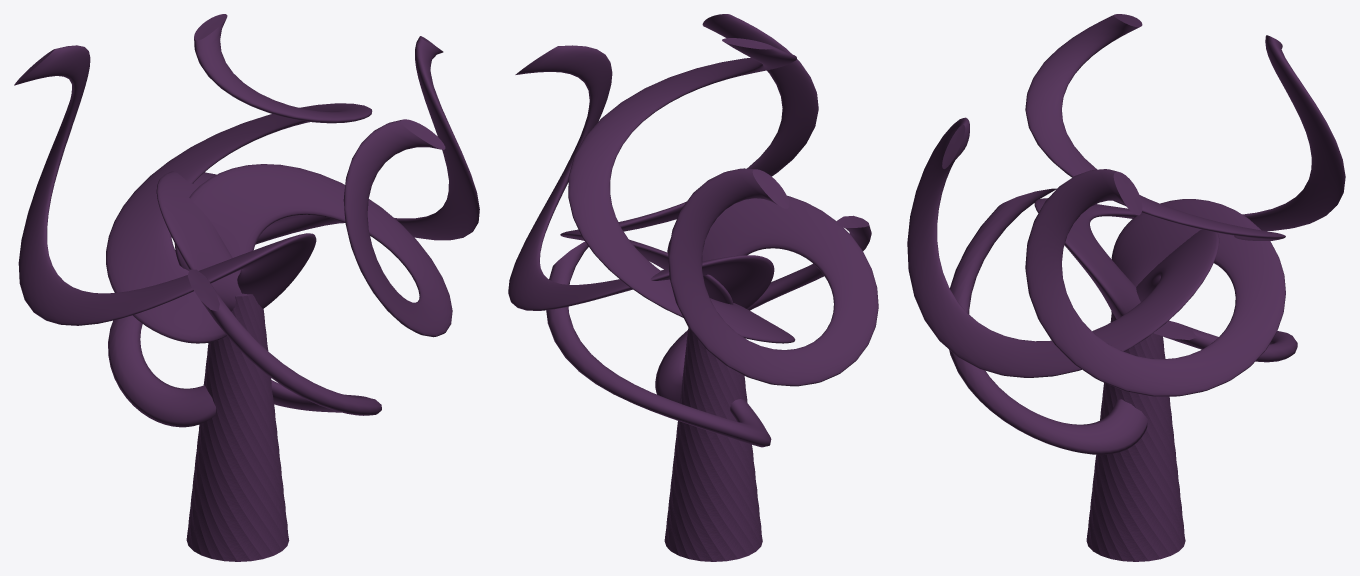
Rendered from FearLv3.glb.
The picture shows the model from 3 angles, left to right: view 1: azimuth 30°, elevation 25°; view 2: azimuth 150°, elevation 25°; view 3: azimuth 270°, elevation 25°; orthographic projection. The views are drawn at different scales.
Parts seen in each view (by area): view 1: Batang013, Batang006, Batang009, Batang014, Batang012, Batang015, Batang011; view 2: Batang014, Batang006, Batang009, Batang012, Batang013, Batang015, Batang011; view 3: Batang012, Batang013, Batang006, Batang014, Batang011, Batang009, Batang015.
Part boxes in pixels (x1,y1,x2,y2): Batang013: (174,119,452,337); Batang006: (186,293,289,561); Batang009: (106,14,372,343); Batang014: (14,45,316,325); Batang012: (156,36,479,311); Batang015: (108,214,344,427); Batang011: (187,269,381,415); Batang014: (667,168,878,386); Batang006: (664,327,762,561); Batang009: (568,38,796,343); Batang012: (508,45,774,310); Batang013: (560,14,818,304); Batang015: (546,241,771,447); Batang011: (655,215,871,403); Batang012: (1025,169,1285,396); Batang013: (907,117,1219,377); Batang006: (1086,312,1185,561); Batang014: (1034,35,1345,318); Batang011: (949,188,1147,454); Batang009: (1025,14,1285,311); Batang015: (1153,320,1297,362).
Bounding box in the file's own units: 1.31 × 1.75 × 1.37.
